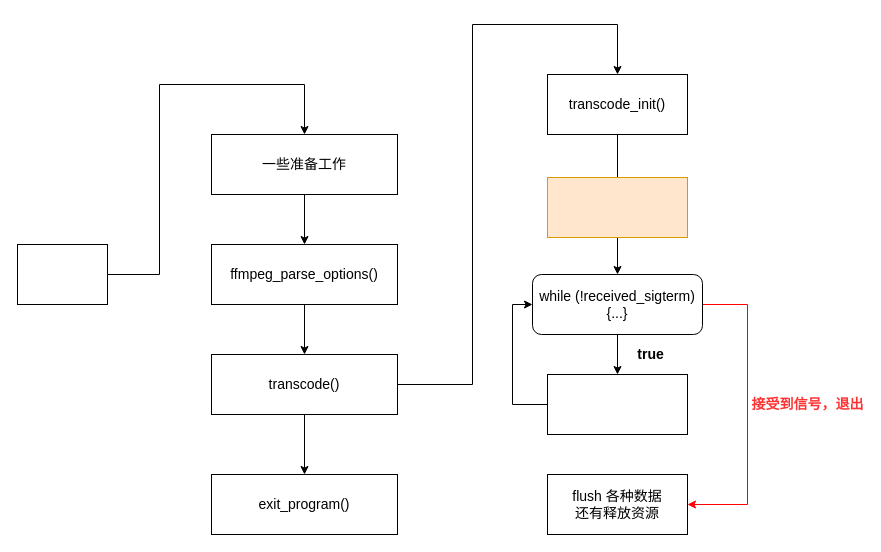
The diagram is 881 pixels wide and 552 high, and some of its shapes have lost their labels. Here are the shapes that lost their labels. From the top down, the centre of each, then its label:
At pixel 617 207: "init_input_threads()".
At pixel 62 274: "main()".
At pixel 617 404: "transcode_step()".
